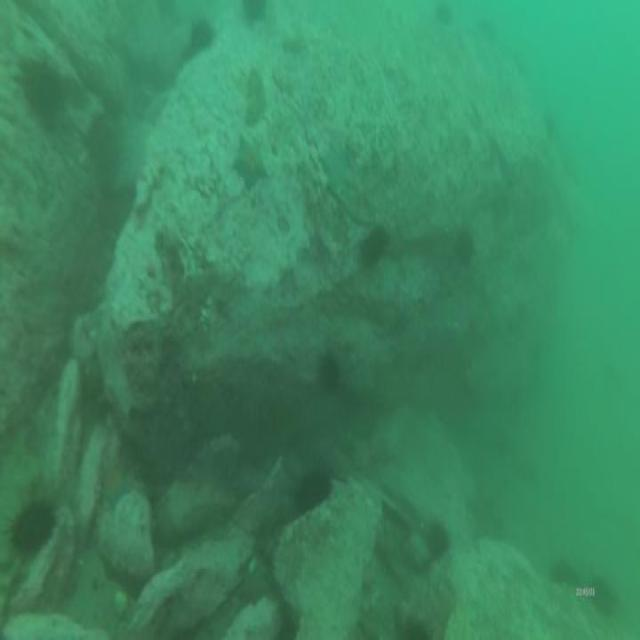echinus: (18, 54, 68, 134), (84, 114, 126, 191), (9, 498, 59, 562), (296, 463, 334, 517), (586, 569, 620, 624), (421, 510, 450, 569), (356, 223, 390, 270), (450, 220, 478, 276), (186, 16, 218, 65), (554, 552, 588, 596), (316, 351, 340, 396), (241, 0, 271, 32), (432, 0, 456, 30)
starfish: (230, 130, 270, 192)
